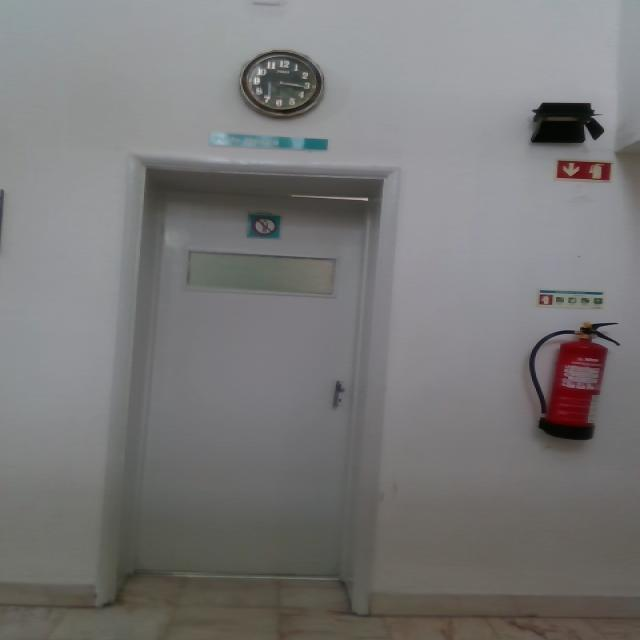door: (127, 189, 369, 582)
